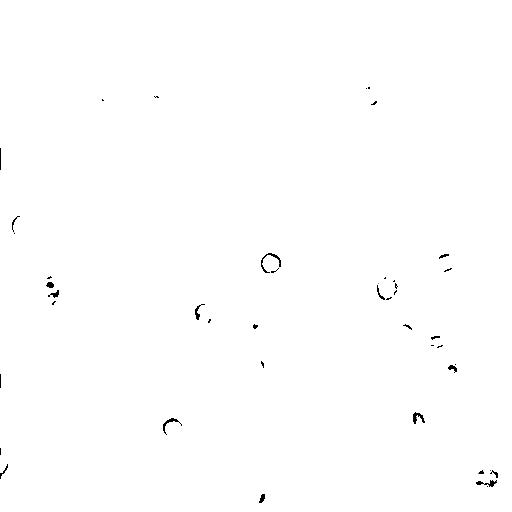micro-algae: (161, 379, 264, 487), (18, 71, 105, 164), (380, 41, 424, 88), (296, 0, 364, 25), (410, 23, 446, 60), (42, 78, 77, 114), (242, 310, 281, 342), (2, 136, 32, 172), (182, 481, 216, 512), (247, 480, 277, 512), (92, 79, 120, 112), (63, 243, 91, 276), (430, 250, 463, 276), (131, 242, 156, 271), (473, 465, 503, 489), (376, 273, 401, 301), (446, 347, 476, 370), (10, 213, 36, 239), (170, 304, 195, 331), (38, 268, 63, 294), (259, 251, 283, 276), (358, 84, 381, 108), (39, 283, 61, 307), (192, 302, 214, 325), (394, 321, 416, 344), (246, 357, 267, 381), (161, 417, 184, 438), (426, 332, 447, 351), (410, 410, 428, 429), (445, 360, 462, 375), (2, 448, 9, 476)
